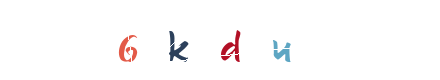6: (136, 0, 216, 80)
D: (180, 0, 260, 80)
K: (142, 0, 222, 80)
U: (216, 0, 296, 80)
